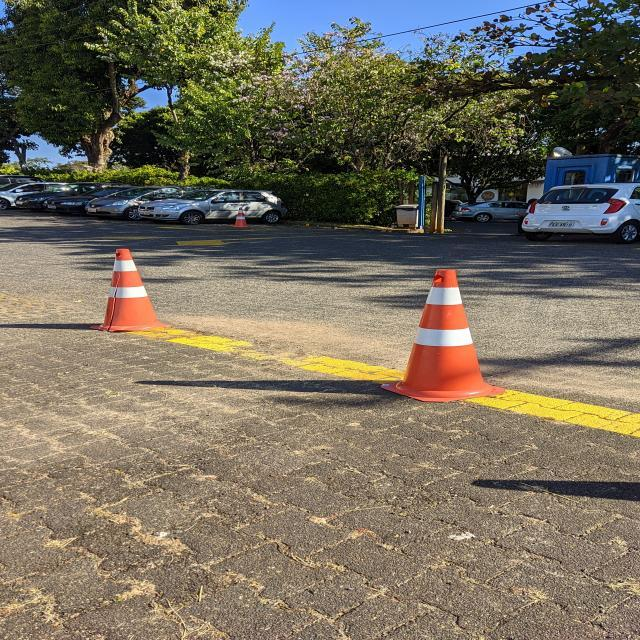Cone: (373, 264, 513, 404), (84, 244, 179, 334), (231, 207, 252, 230)
